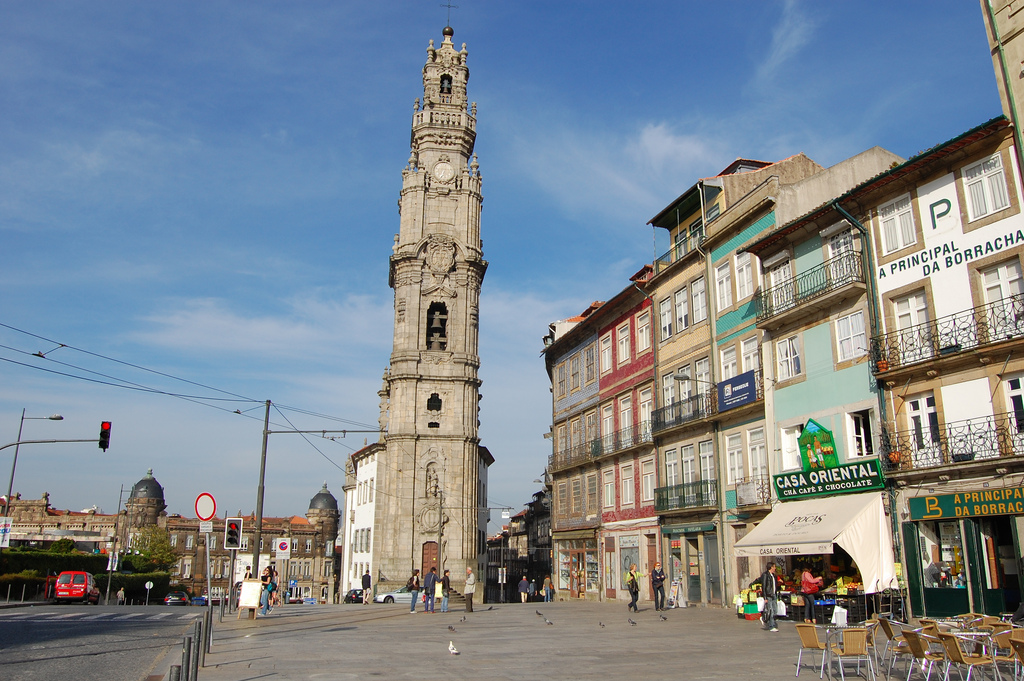clerigos: (377, 0, 489, 587)
